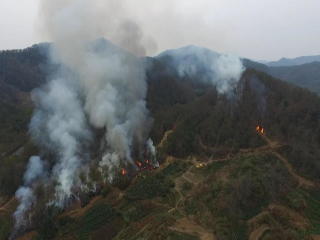smoke: (22, 6, 160, 210), (175, 39, 249, 102)
